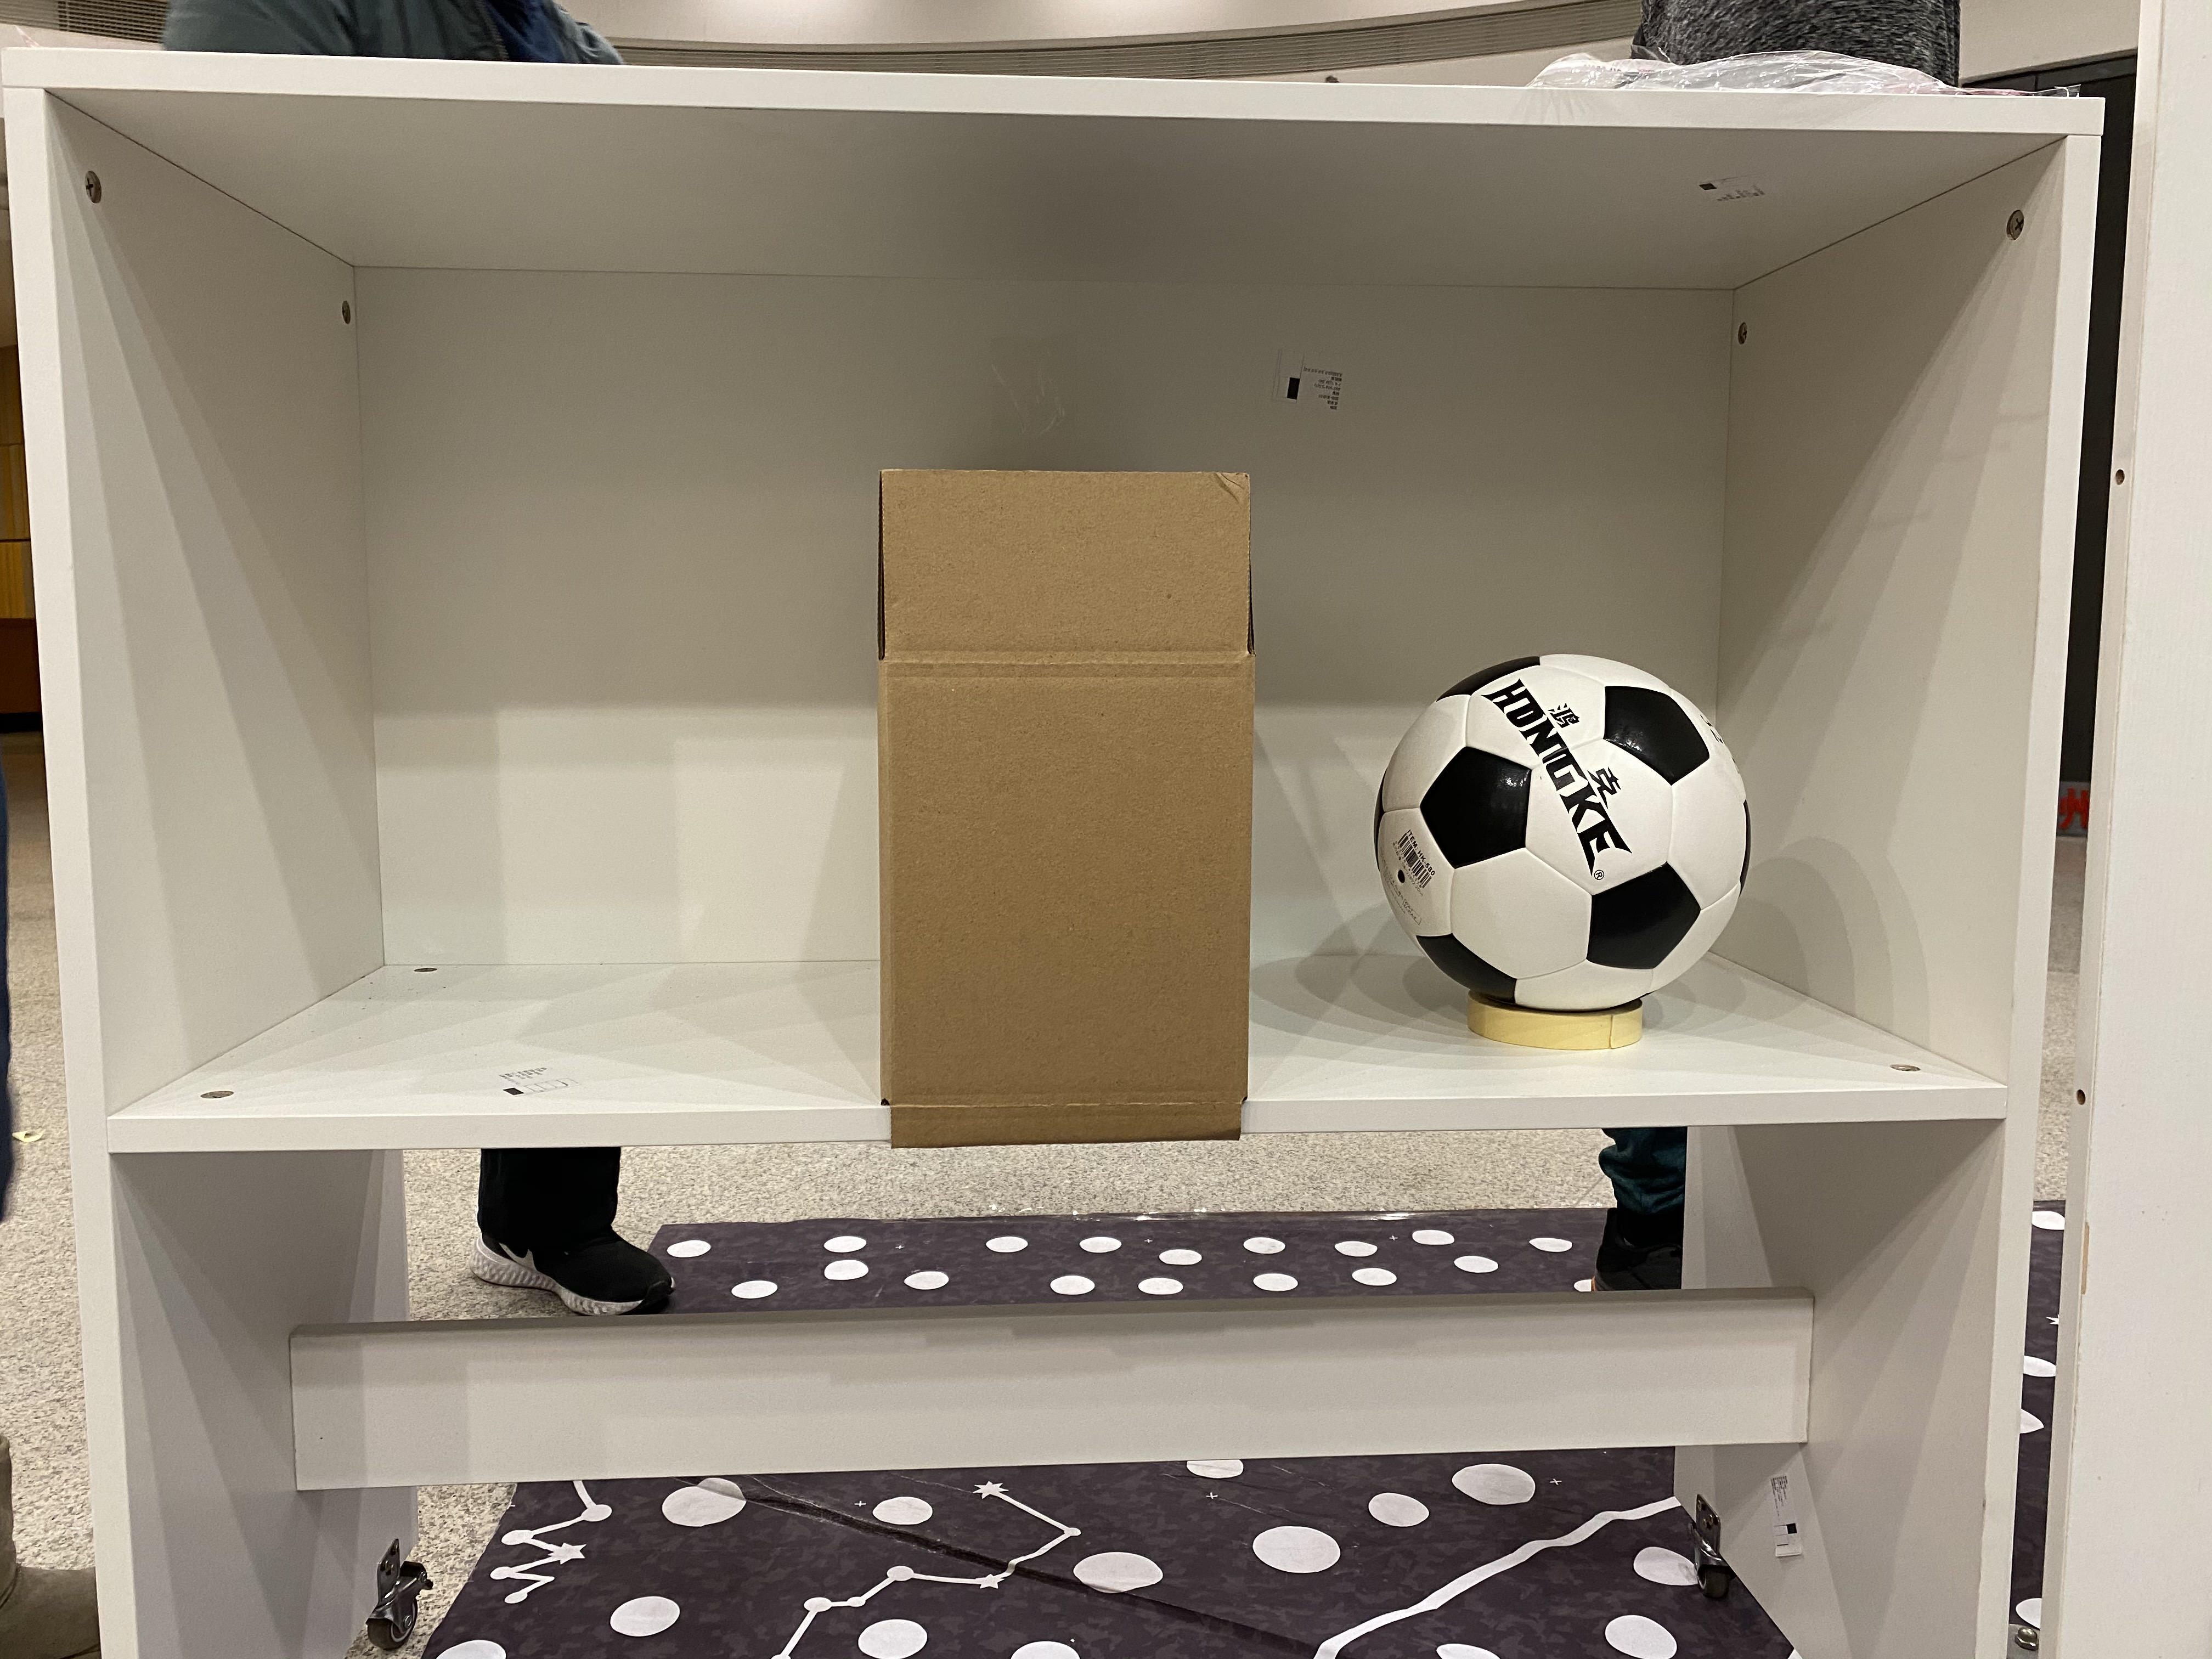football: (1374, 652, 1752, 1007)
